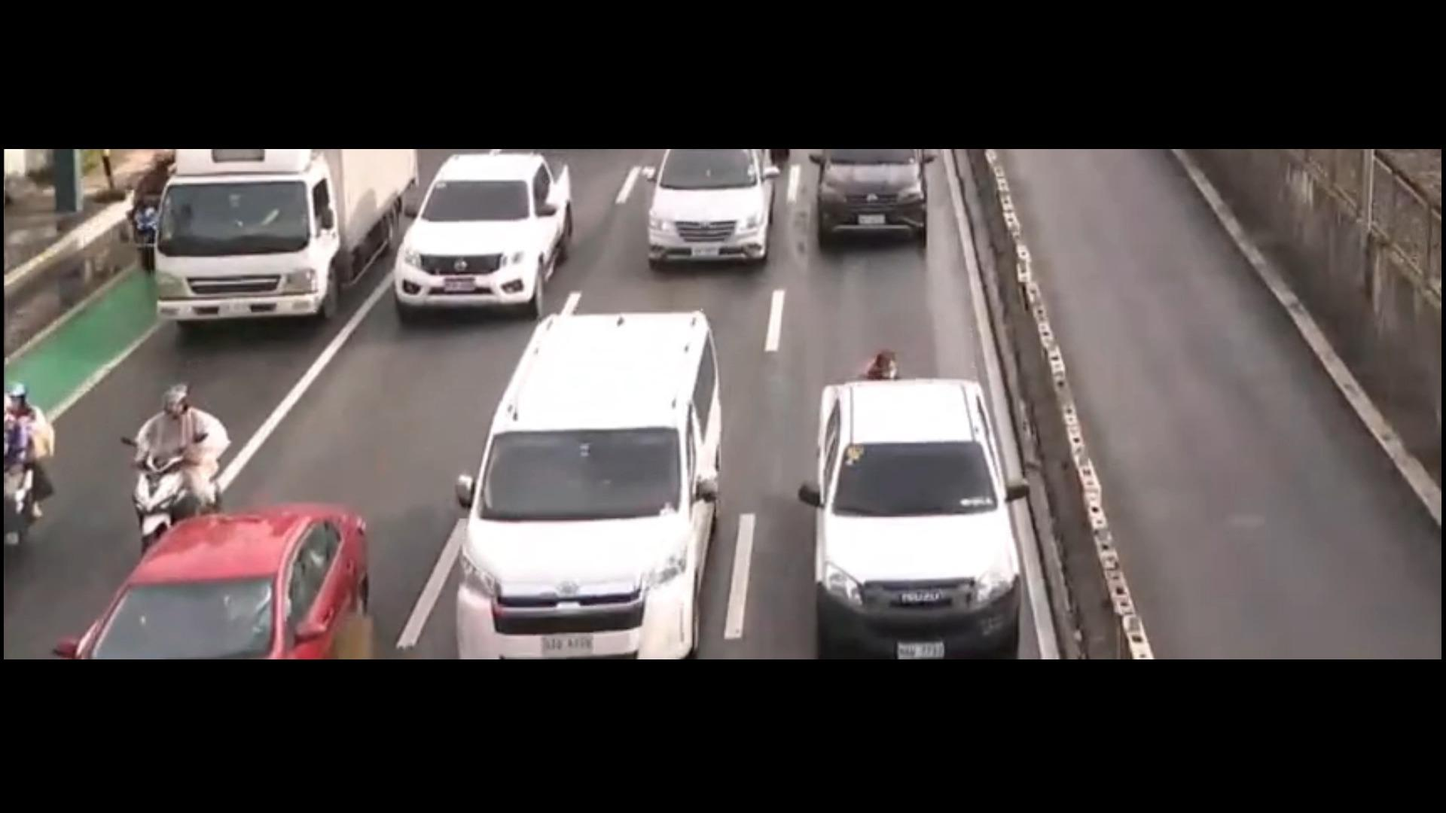Motorcycle: (122, 388, 230, 546), (0, 386, 53, 548)
SUV: (804, 373, 1036, 655), (375, 152, 582, 327), (633, 147, 785, 271), (813, 154, 941, 254)
Sedan: (56, 508, 367, 659)
Truck: (154, 151, 424, 341)
Van: (452, 307, 732, 662)
